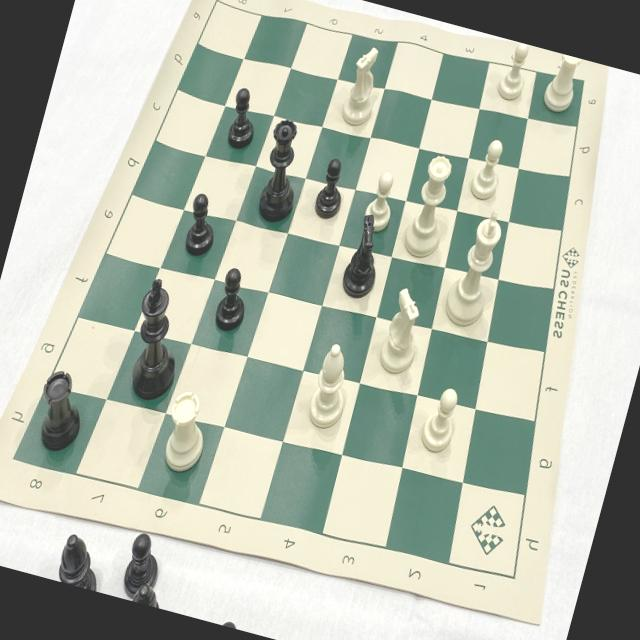black-king: (113, 272, 197, 412)
black-knight: (336, 210, 394, 302)
black-pawn: (208, 262, 258, 336), (178, 189, 227, 262), (308, 153, 357, 225), (219, 82, 266, 155)
black-queen: (248, 117, 314, 230)
black-rook: (28, 364, 96, 460)
white-bishop: (301, 338, 362, 436)
white-king: (437, 201, 514, 333)
white-knight: (371, 282, 432, 379)
white-pawn: (414, 380, 467, 460), (465, 133, 511, 205), (359, 166, 404, 236), (492, 39, 537, 107)
white-queen: (397, 147, 466, 266)
white-rook: (153, 379, 219, 482), (536, 51, 586, 120)
